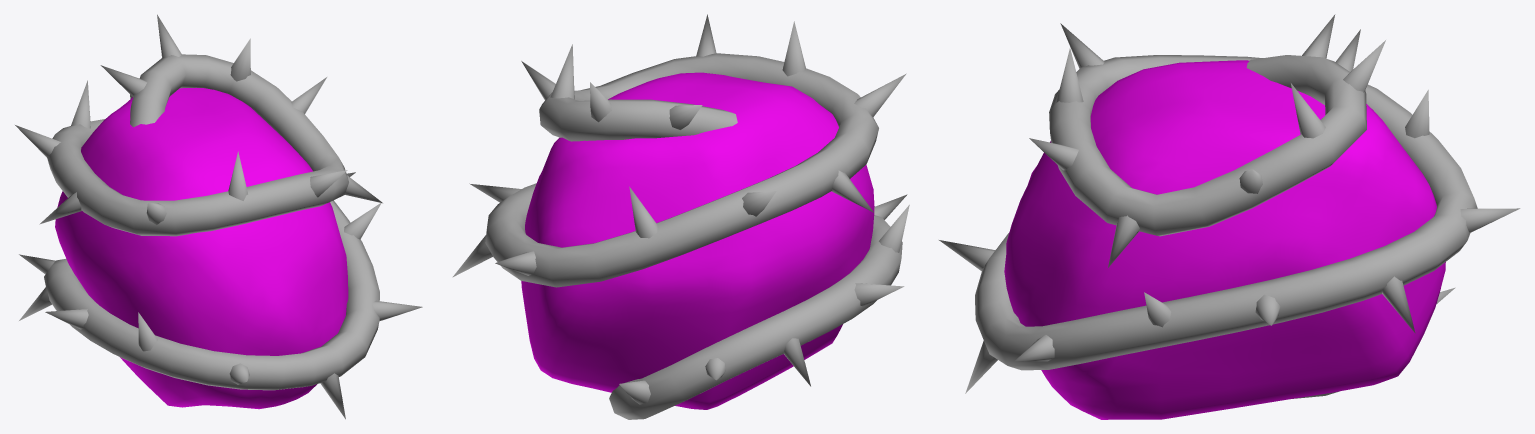
Rendered from Stone1Vined.fbx.
3 renders of one model, left to right at view 1: azimuth 30°, elevation 25°; view 2: azimuth 150°, elevation 25°; view 3: azimuth 270°, elevation 25°, orthographic. The views are drawn at different scales.
Parts seen in each view (by area): view 1: Stone1Vined; view 2: Stone1Vined; view 3: Stone1Vined.
Boxes of the visible parts, left/top/right/bottom form: Stone1Vined: left=15, top=14, right=422, bottom=419; Stone1Vined: left=452, top=14, right=909, bottom=419; Stone1Vined: left=939, top=14, right=1520, bottom=419.
Bounding box in the file's own units: 94.48 × 78.44 × 113.
